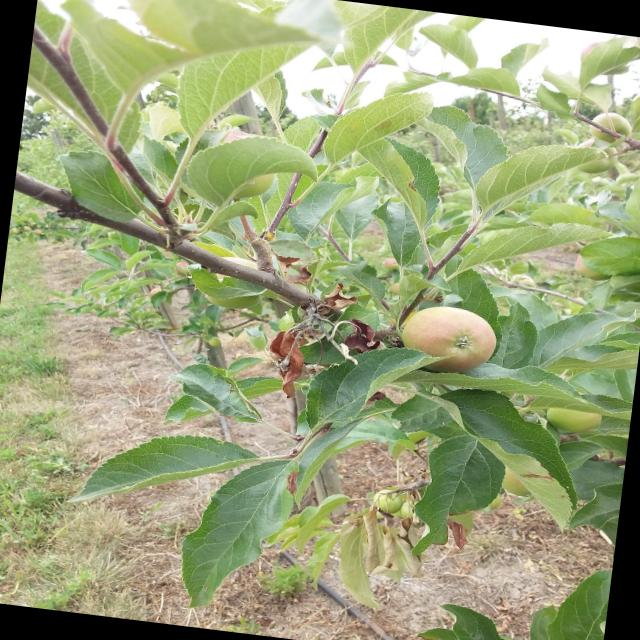-FireBlight-: (255, 272, 385, 378)
